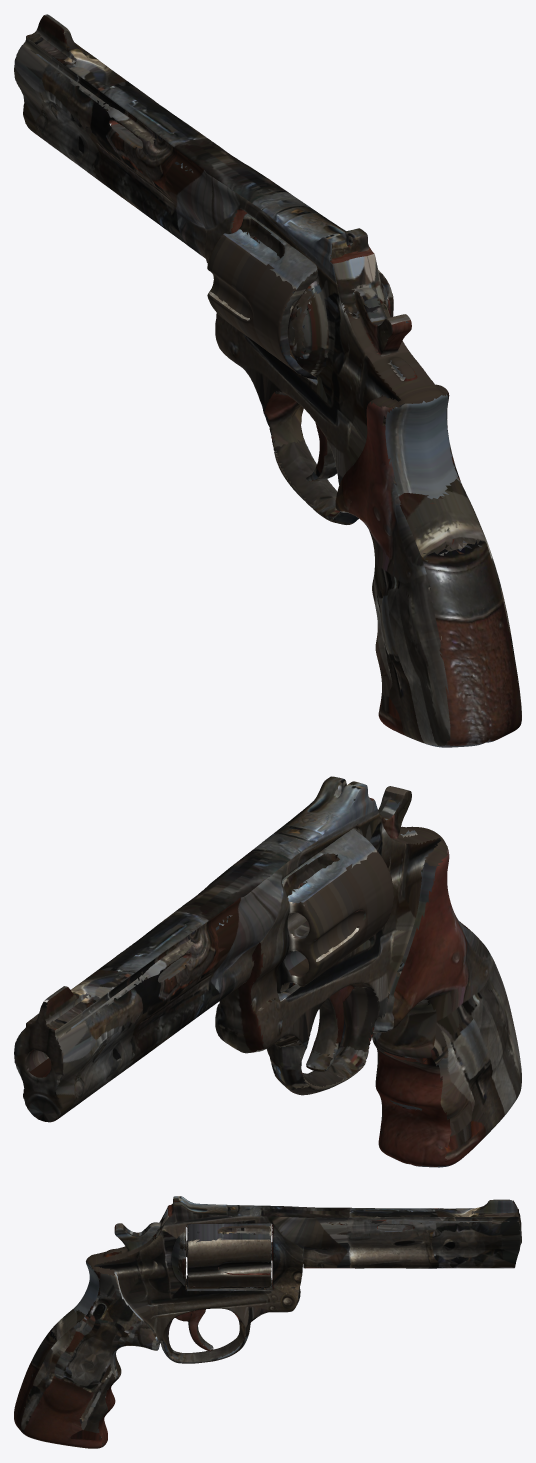
File: revolver1.glb
The picture shows the model from 3 angles, top to bottom: view 1: azimuth 30°, elevation 25°; view 2: azimuth 150°, elevation 25°; view 3: azimuth 270°, elevation 25°; orthographic projection. The views are drawn at different scales.
Parts seen in each view (by area): view 1: Node #0; view 2: Node #0; view 3: Node #0.
Part boxes in pixels (box(x1,y1,x2,y2)): Node #0: box(14, 14, 521, 747); Node #0: box(14, 776, 521, 1167); Node #0: box(14, 1196, 521, 1448).
Size of the model in its own units: 0.2937 by 1.05 by 2.
1 material, 1 textured.
